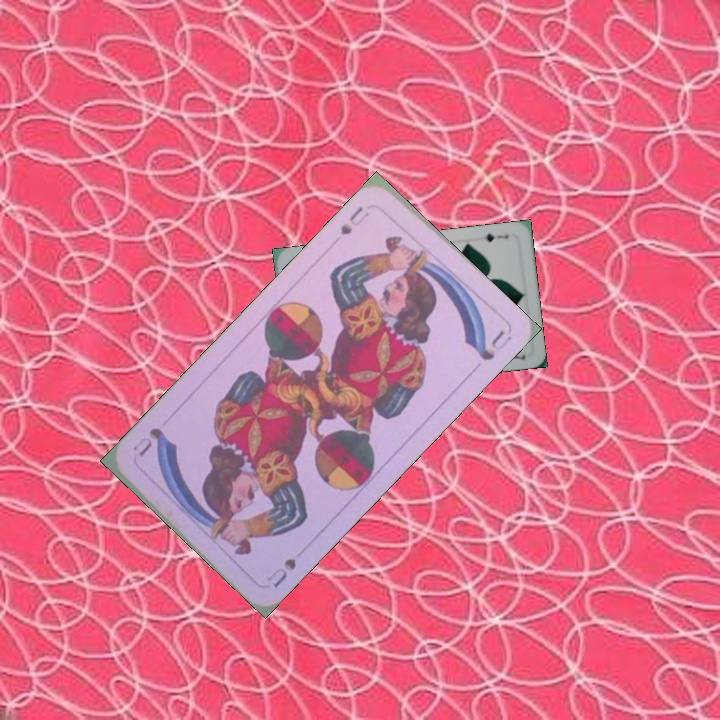G7: (476, 229, 511, 244)
SU: (262, 554, 299, 591), (336, 202, 372, 238)
